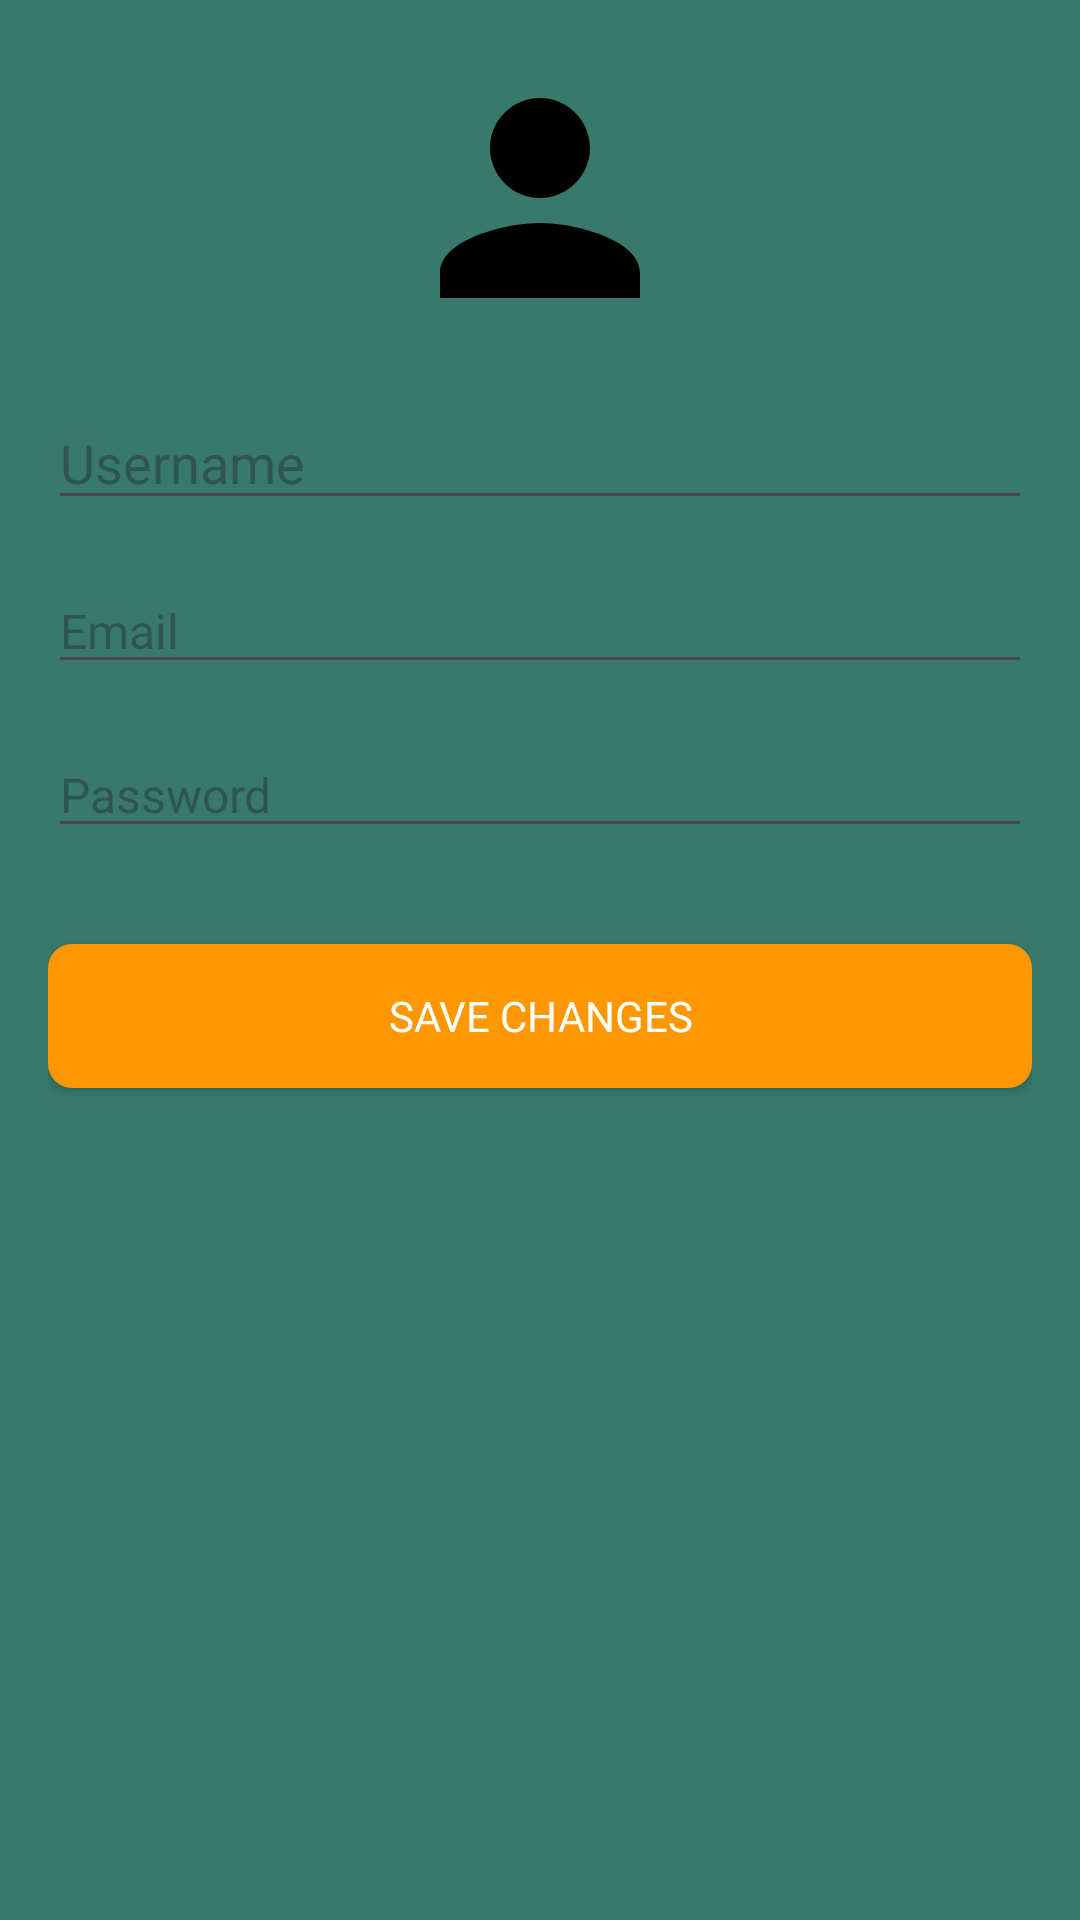

Where to tap for icons on this 1080 x 1920 app screen, as point (x, y):
Profile Image: point (540, 198)
